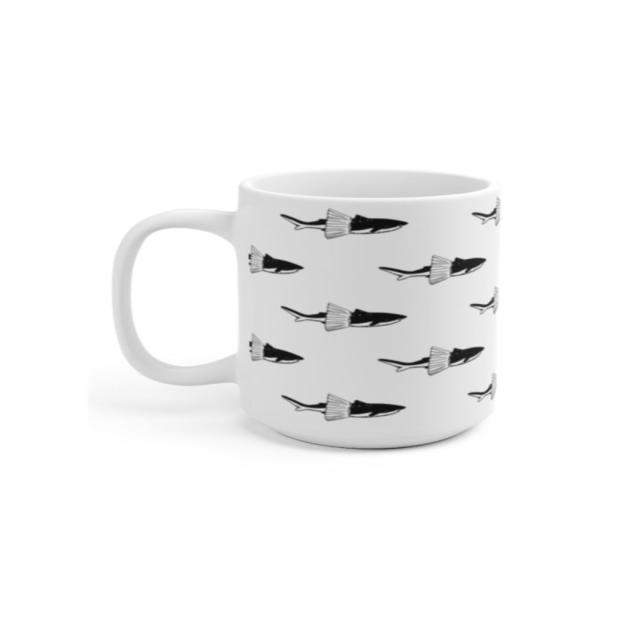glass cup: (110, 170, 500, 450)
